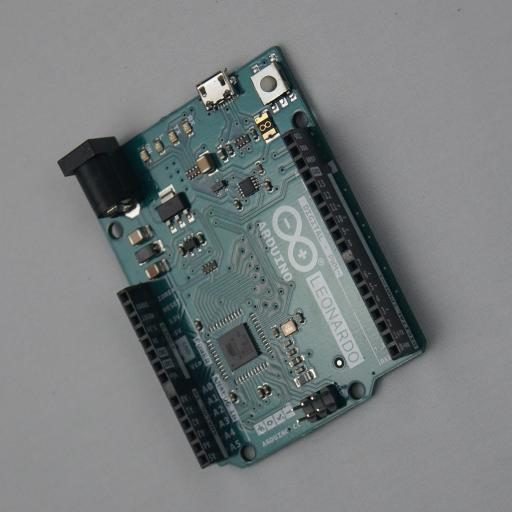Arduino Leonardo: (58, 46, 436, 469)
